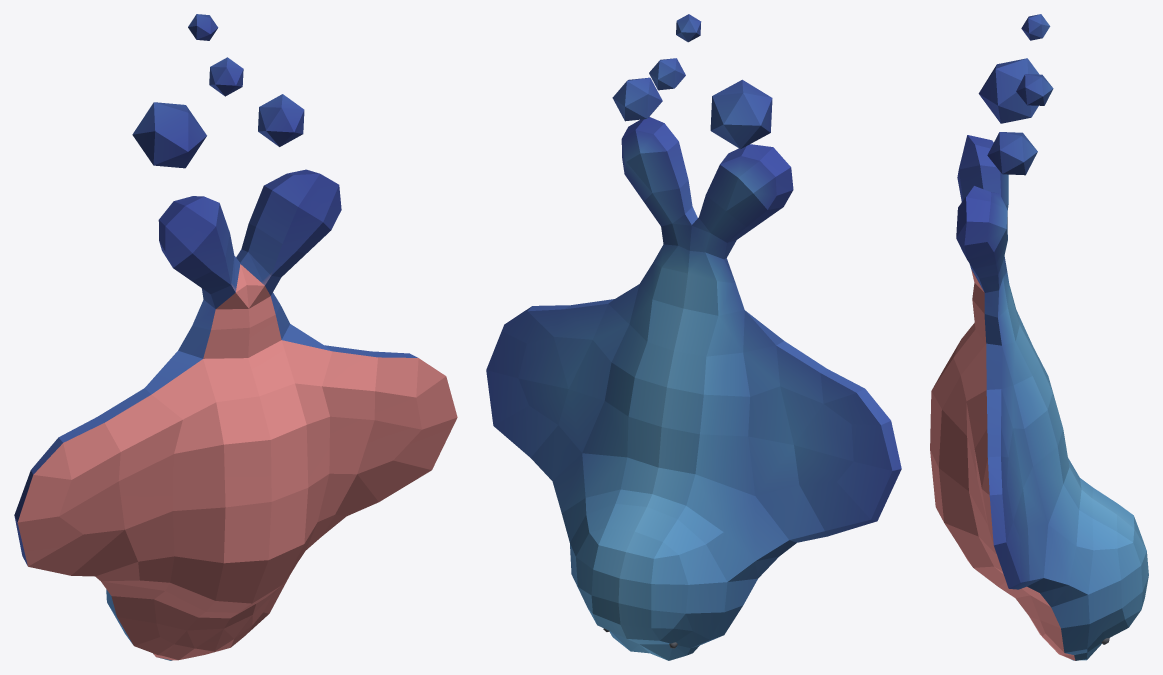
The picture shows the model from 3 angles, left to right: view 1: azimuth 30°, elevation 25°; view 2: azimuth 150°, elevation 25°; view 3: azimuth 270°, elevation 25°; orthographic projection. The views are drawn at different scales.
Visible parts, largest first — view 1: PC_001; view 2: PC_001; view 3: PC_001.
Boxes of the visible parts, <box> form: PC_001: <box>14,14,457,660</box>; PC_001: <box>486,14,901,660</box>; PC_001: <box>930,14,1148,660</box>.
Bounding box in the file's own units: 1.81 × 2.6 × 0.8211.
